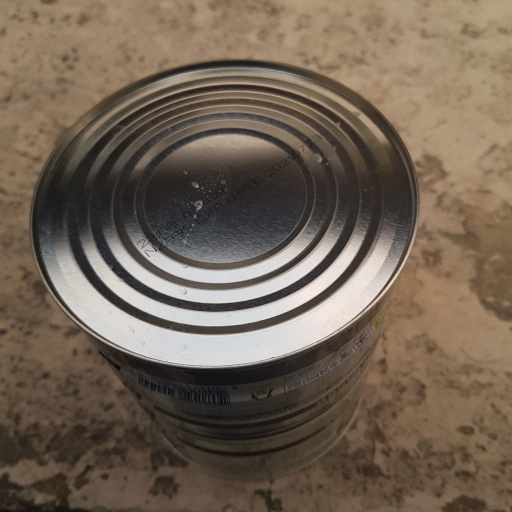Metal_1: (31, 57, 425, 477)
